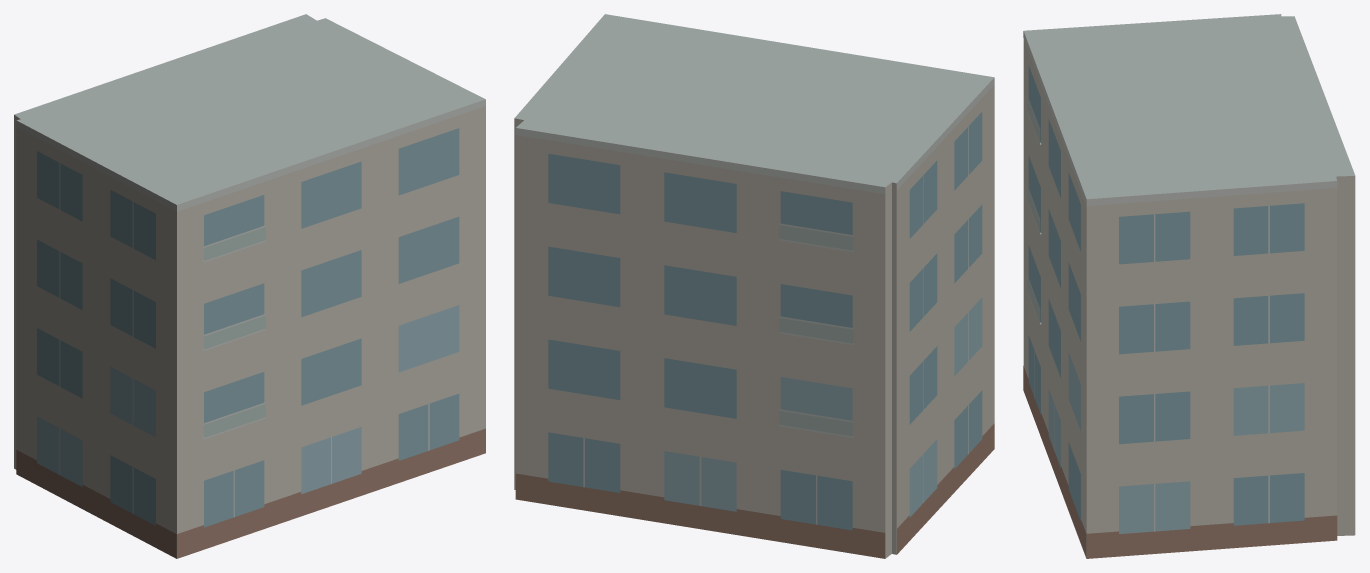
File: survey-upis-32740095.glb
3 views of the same model, side by side, from view 1: azimuth 30°, elevation 25°; view 2: azimuth 150°, elevation 25°; view 3: azimuth 270°, elevation 25° (orthographic). The views are drawn at different scales.
Visible parts, largest first — view 1: survey-upis-32740095.tmp; view 2: survey-upis-32740095.tmp; view 3: survey-upis-32740095.tmp.
Boxes of the visible parts, x1,y1,x2,y2 form: survey-upis-32740095.tmp: (14, 14, 485, 558); survey-upis-32740095.tmp: (514, 14, 994, 558); survey-upis-32740095.tmp: (1023, 14, 1355, 558).
Size of the model in its own units: 14.15 by 12.8 by 10.72.
